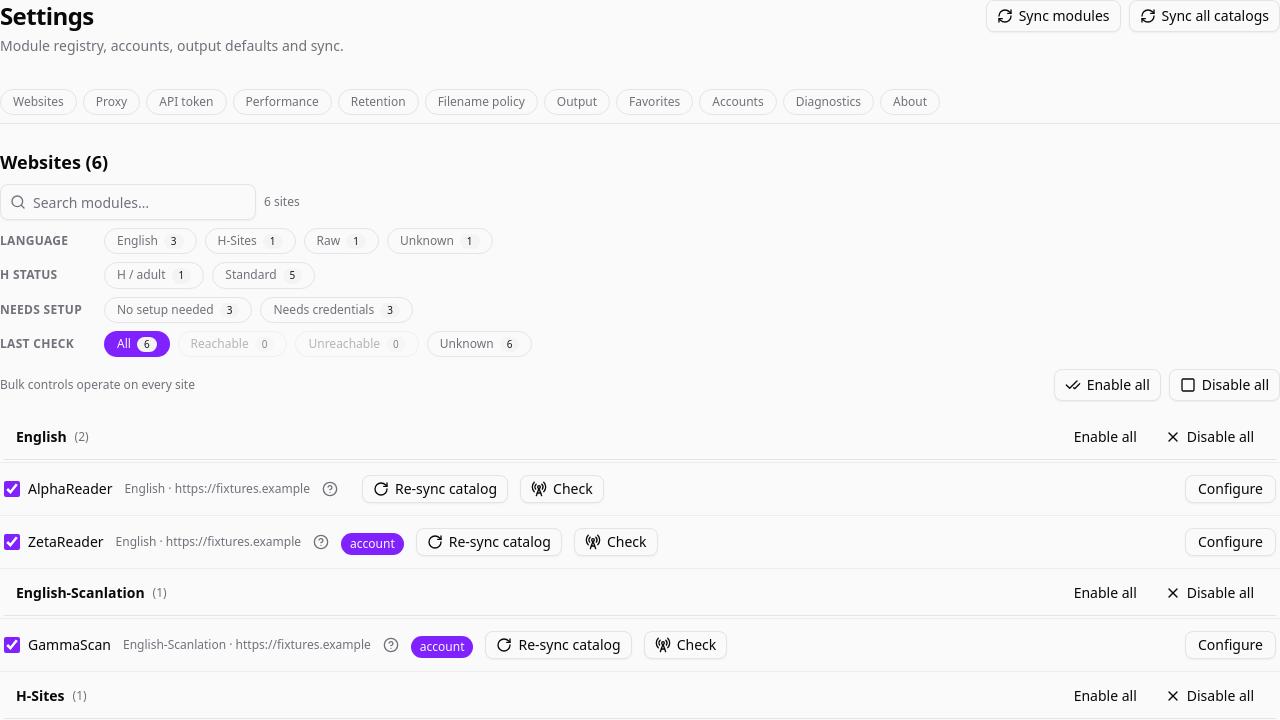
Test case: Settings → Websites: filter-scoped global bulk › cancel in the confirm dialog writes nothing
This screenshot has width=1280, height=720.
Expected: the element with test id "module-facets" is shown, [0,184,532,357]
Click the button "Disable all" in the row of "Bulk controls operate on every site" at [1224, 385], box [1169,369,1279,401]
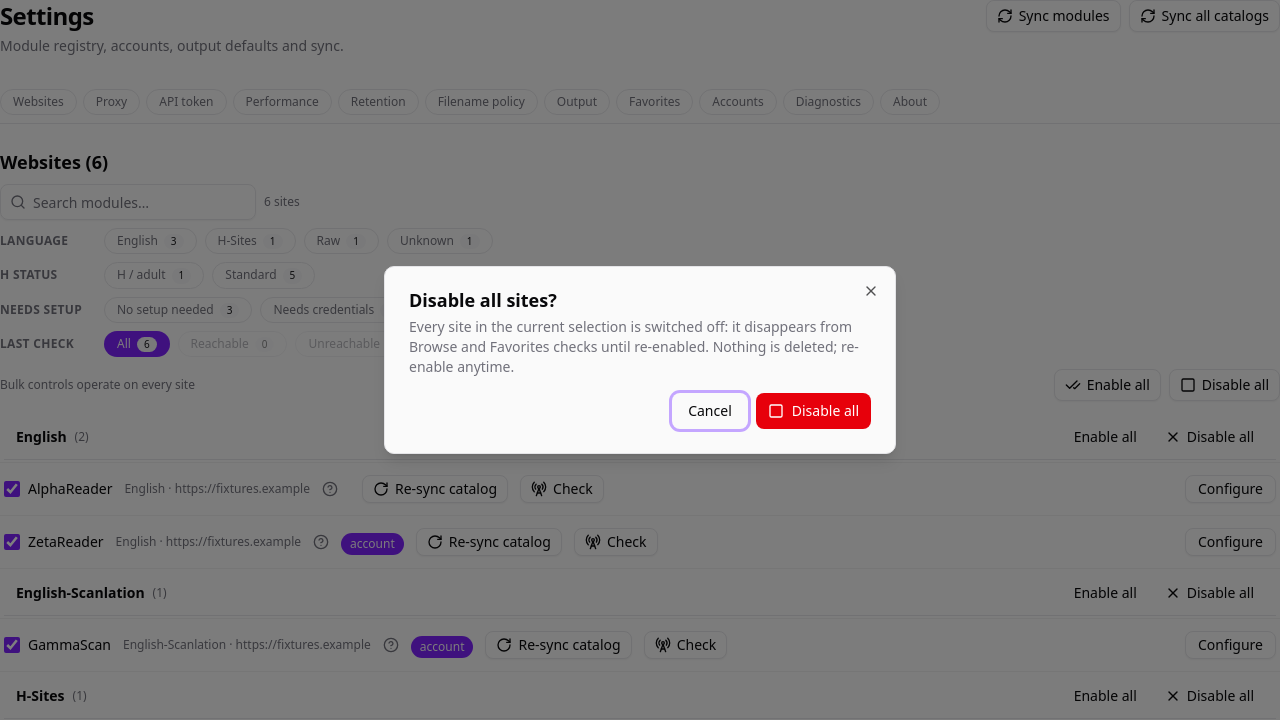
Click the button "Cancel" at [710, 411], box [672,393,748,429]
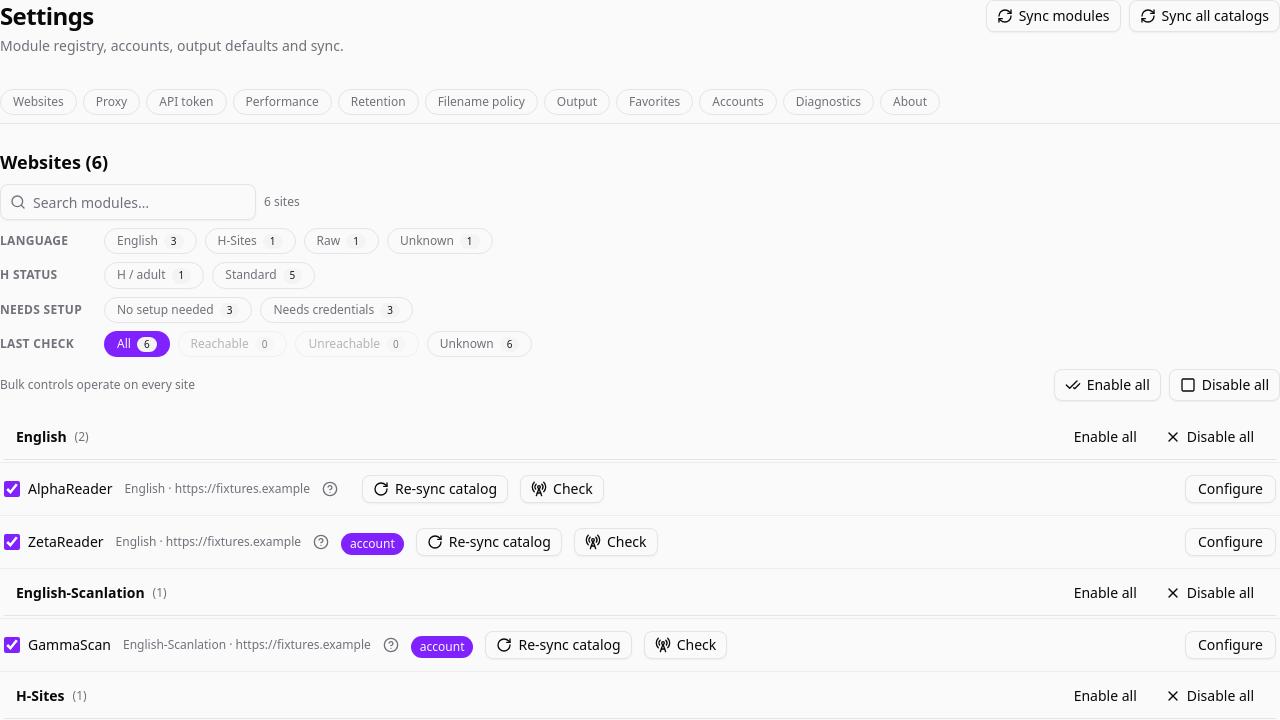
Expected: the dialog with test id "module-disable-all-dialog" is gone
